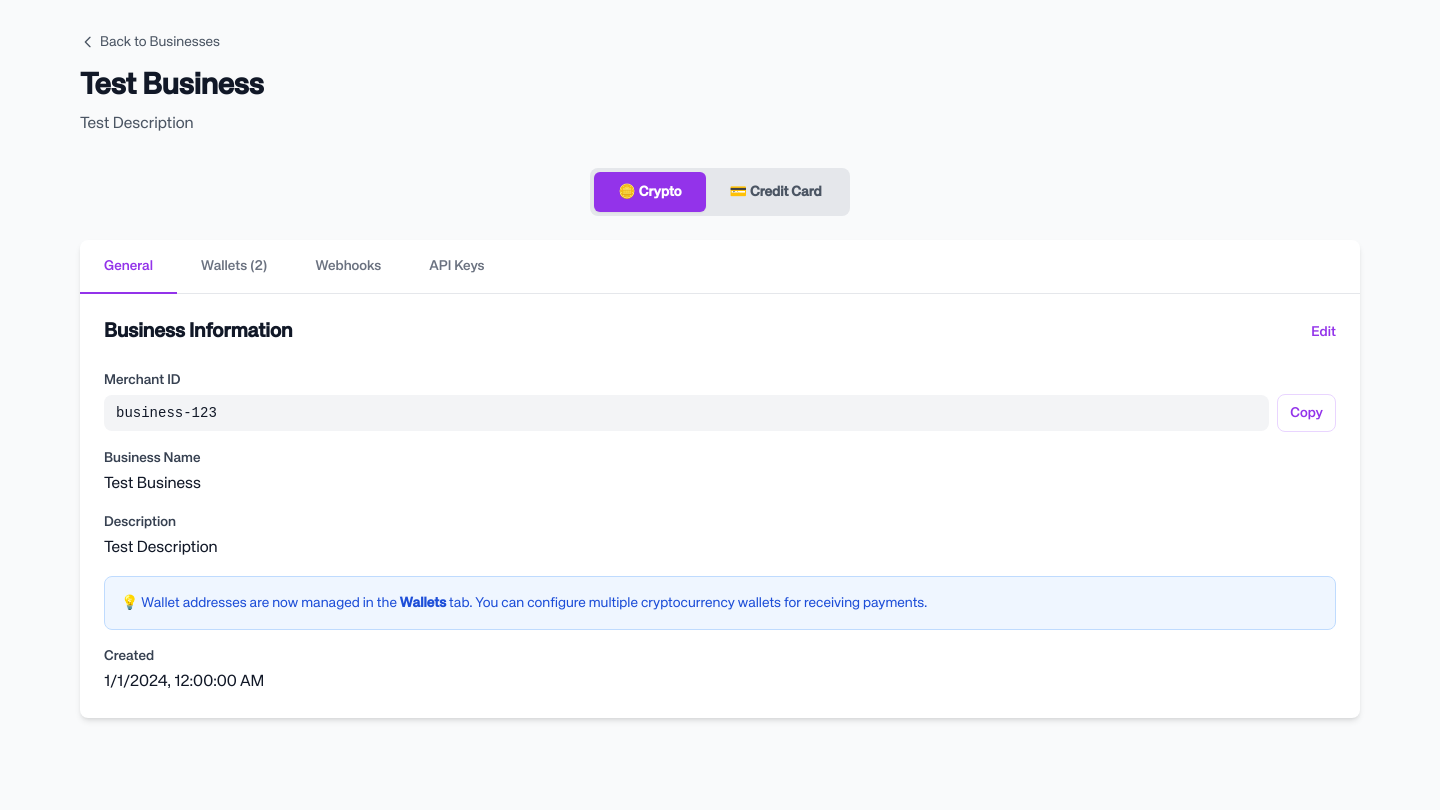
Test: BusinessDetailPage › Tab Navigation › should switch to Wallets tab when clicked
Expected: the heading "Test Business" is shown, [80, 71, 264, 101]
Click the button "Wallets (2)": point(234, 267) [177, 240, 292, 294]
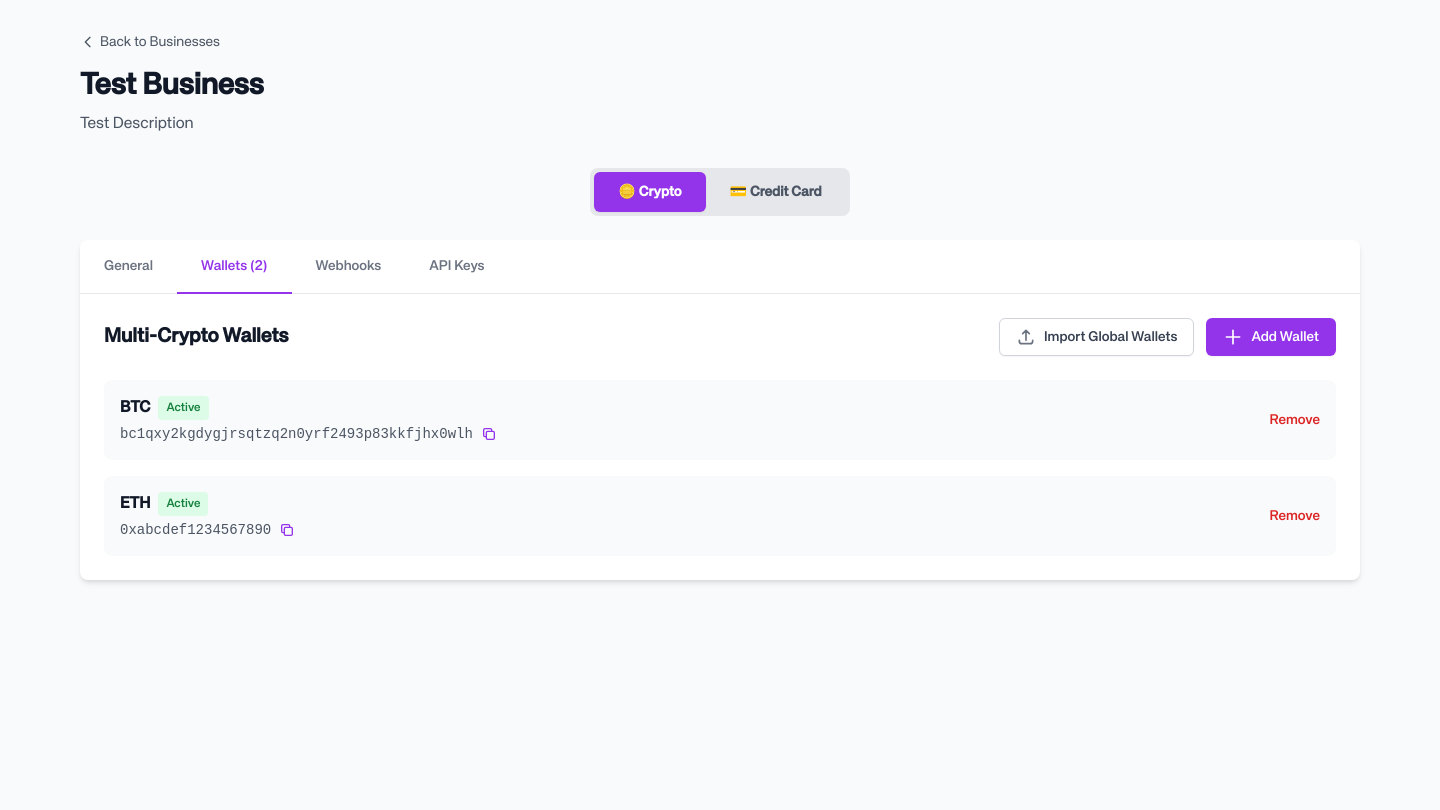
Now the heading "Multi-Crypto Wallets" is shown, box [104, 323, 288, 351]
